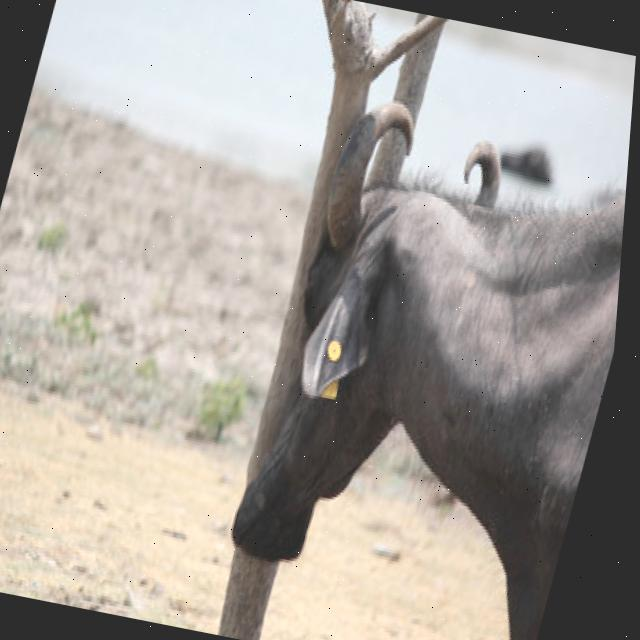Buffalo: (201, 90, 633, 640)
